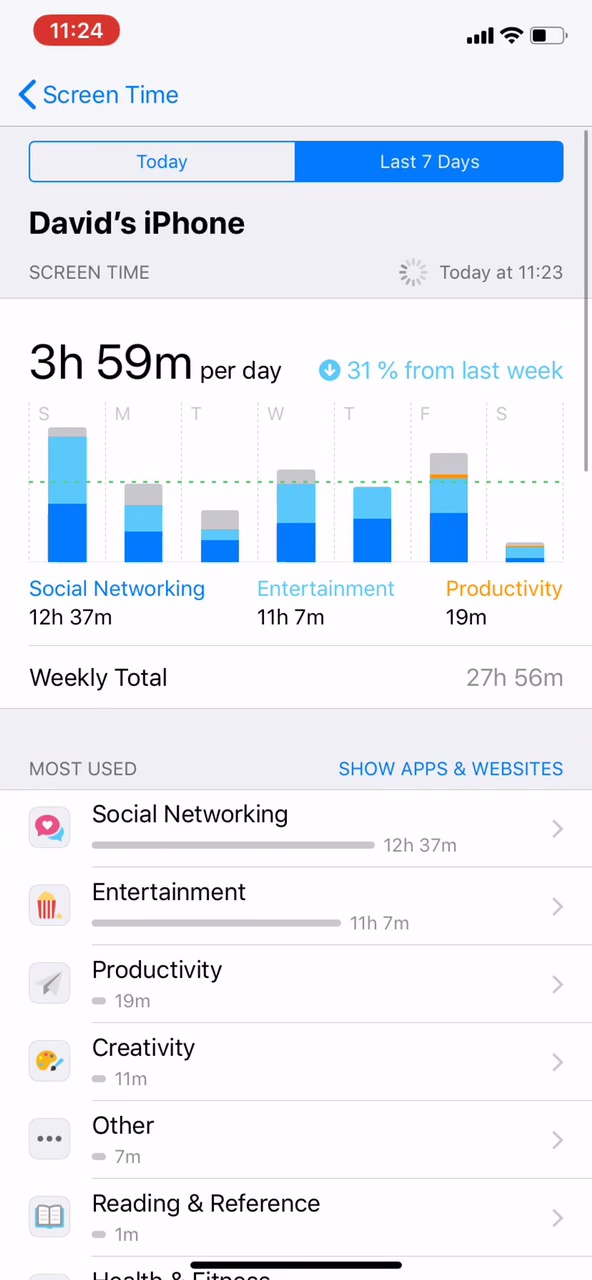use_over: (22, 578, 579, 694)
